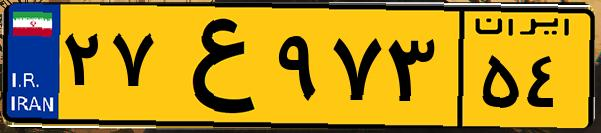2: (57, 26, 110, 100)
3: (385, 28, 445, 110)
4: (525, 38, 570, 115)
5: (475, 38, 525, 113)
7: (330, 28, 385, 110), (110, 28, 158, 98)
9: (270, 28, 330, 110)
ع: (158, 12, 270, 120)
